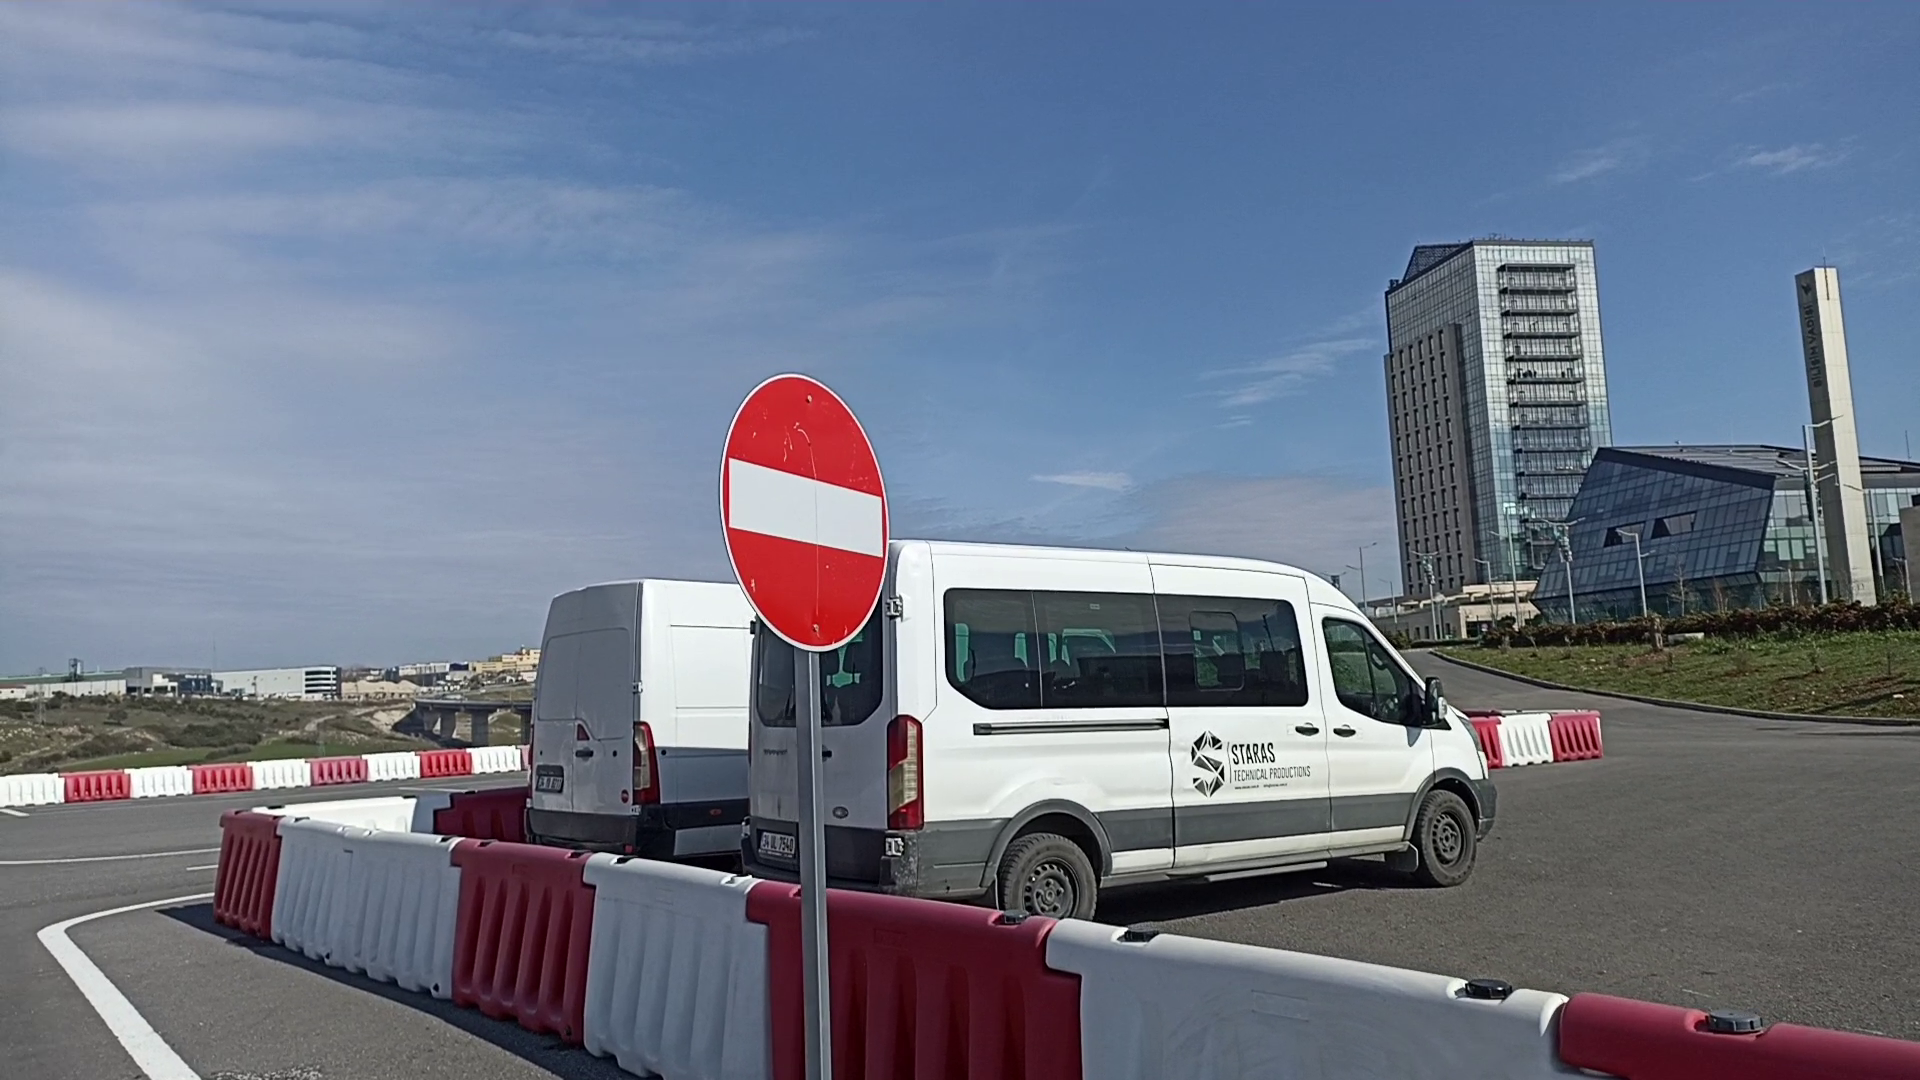noentryway: (709, 369, 894, 655)
